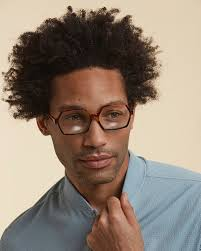g.y: (55, 108, 92, 134)
